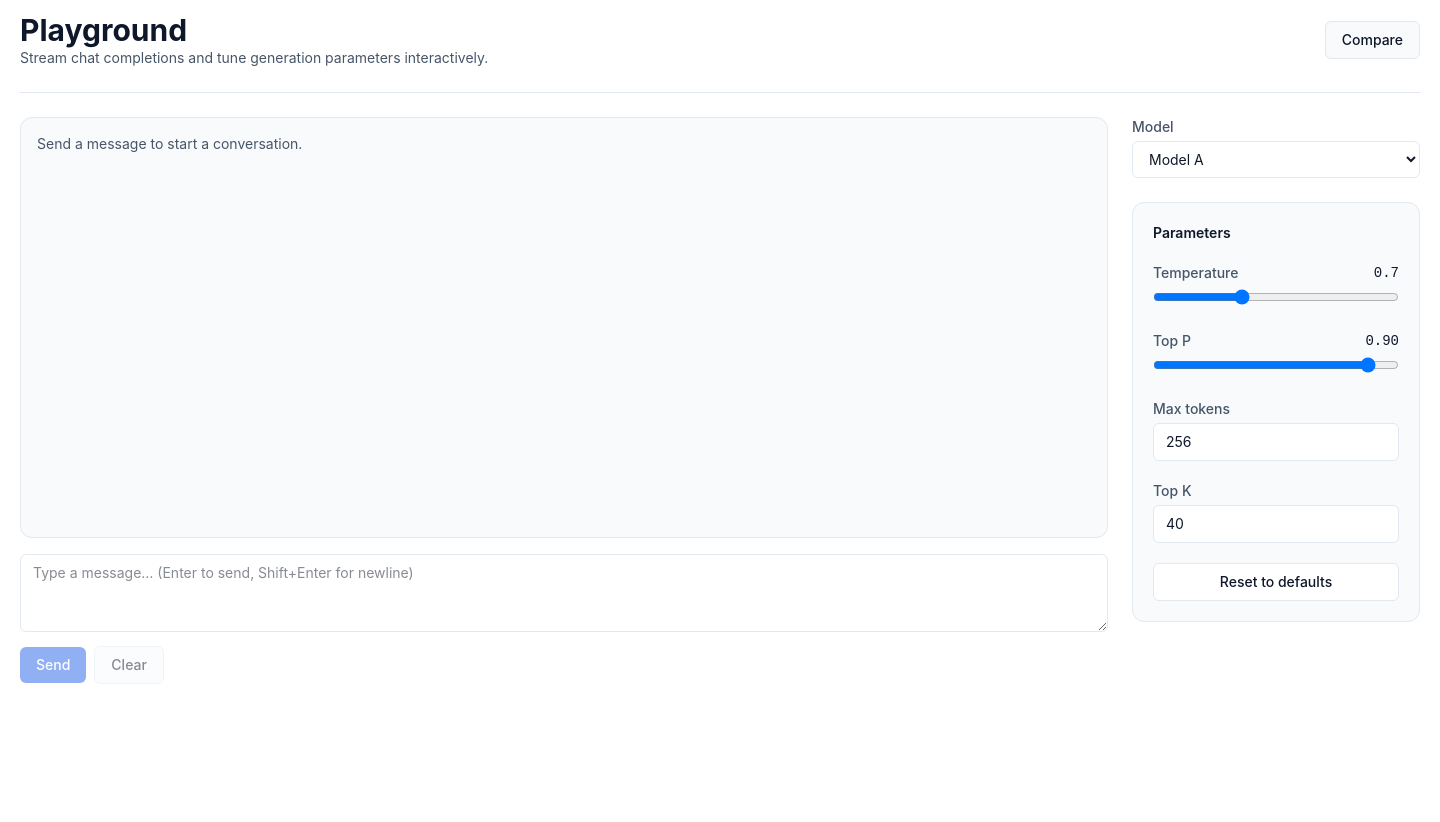
PlaygroundPage comparison mode › shows side-by-side panes (no tablist) in the wide layout when comparing
What coordinates should you click on to do the following:
click the button "Compare"
I would click on:
 (1372, 40)
Its box is [1325,21,1420,59].
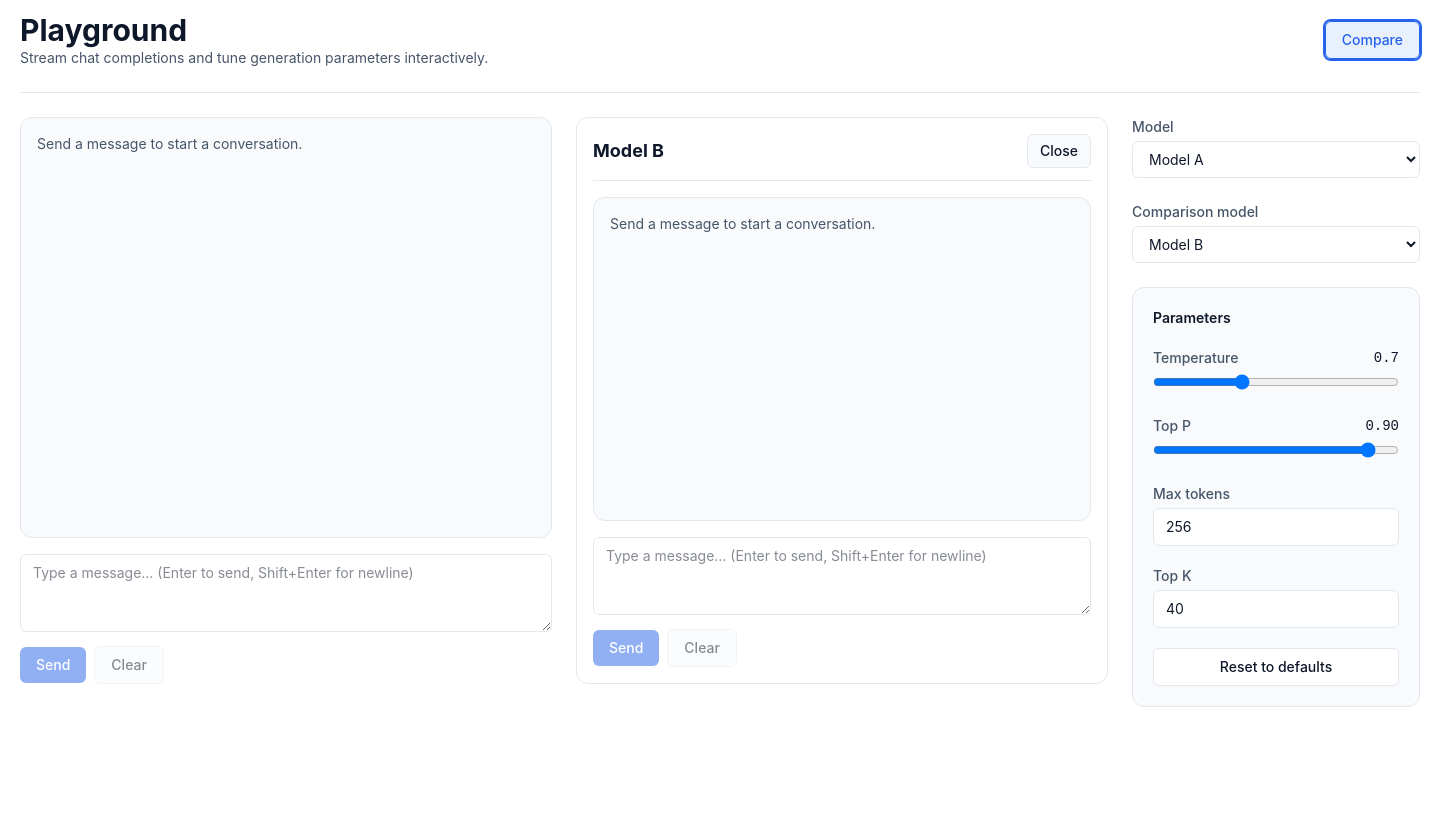
Now the element named "Response from Model B (comparison)" is shown, box [576,117,1108,684]
